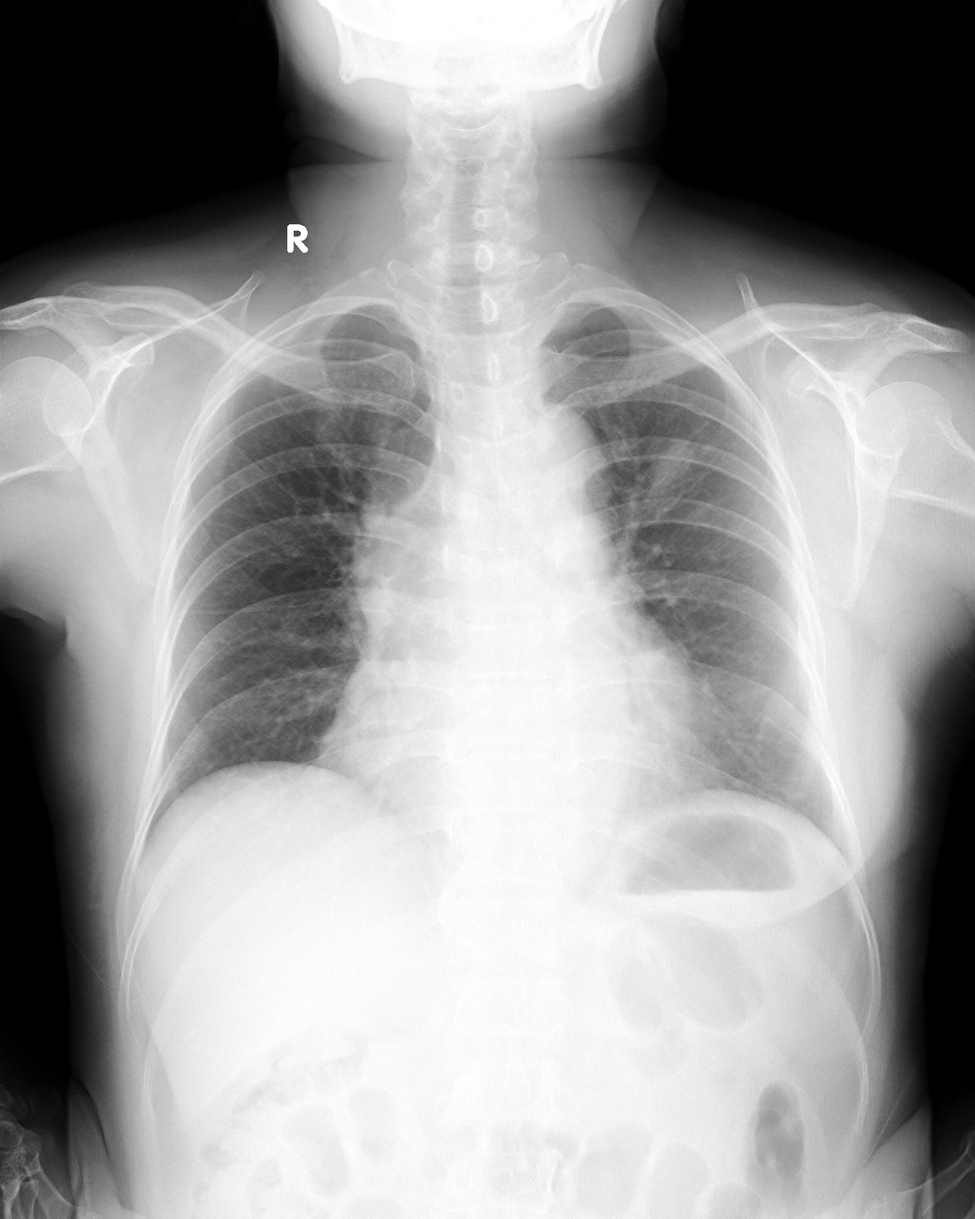Aortic enlargement: (510, 405, 610, 542)
Pulmonary fibrosis: (647, 428, 697, 503)
